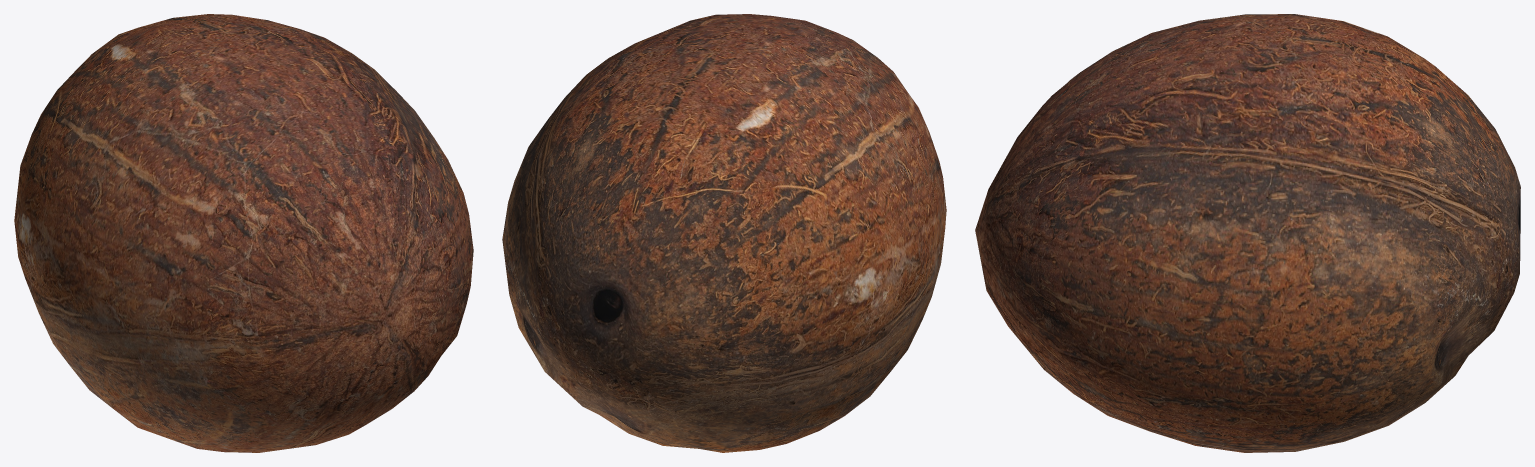
Rendered from coconut_3d_1.glb.
3 views of the same model, side by side, from view 1: azimuth 30°, elevation 25°; view 2: azimuth 150°, elevation 25°; view 3: azimuth 270°, elevation 25° (orthographic). The views are drawn at different scales.
Visible parts, largest first — view 1: Coconut; view 2: Coconut; view 3: Coconut.
Part boxes in pixels (x1=…): Coconut: x1=14, y1=14, x2=473, y2=452; Coconut: x1=502, y1=14, x2=946, y2=452; Coconut: x1=975, y1=14, x2=1520, y2=452.
Size of the model in its own units: 0.3059 by 0.3014 by 0.3757.
1 material, 1 textured.
